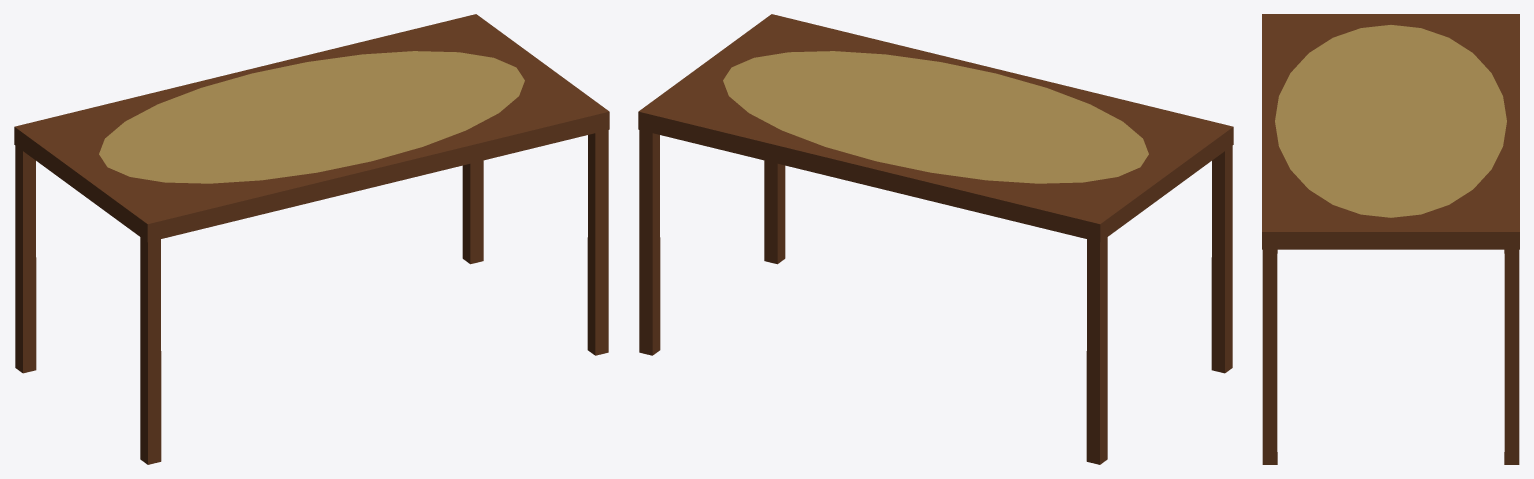
File: Table.fbx
3 views of the same model, side by side, from view 1: azimuth 30°, elevation 25°; view 2: azimuth 150°, elevation 25°; view 3: azimuth 270°, elevation 25° (orthographic). The views are drawn at different scales.
Visible parts, largest first — view 1: pDisc2; view 2: pDisc2; view 3: pDisc2.
Boxes of the visible parts, <box> form: pDisc2: <box>14,14,609,464</box>; pDisc2: <box>638,14,1233,464</box>; pDisc2: <box>1262,14,1519,464</box>.
Size of the model in its own units: 160 by 80.38 by 80.
